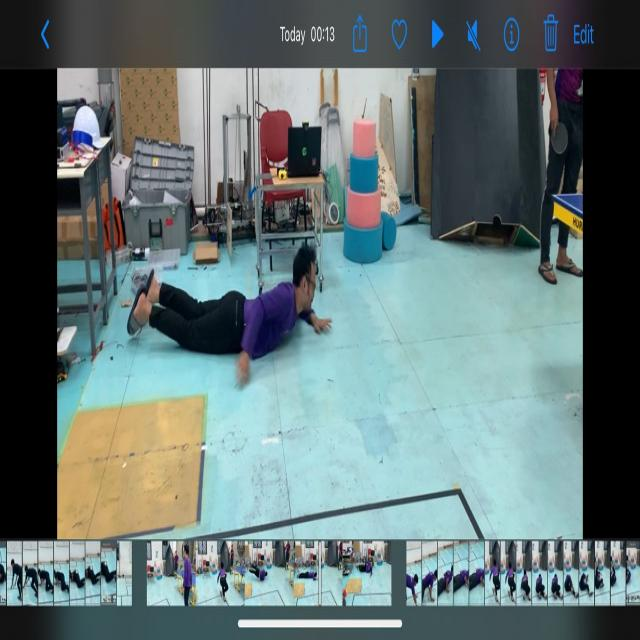Fall-Detected: (119, 234, 342, 403)
